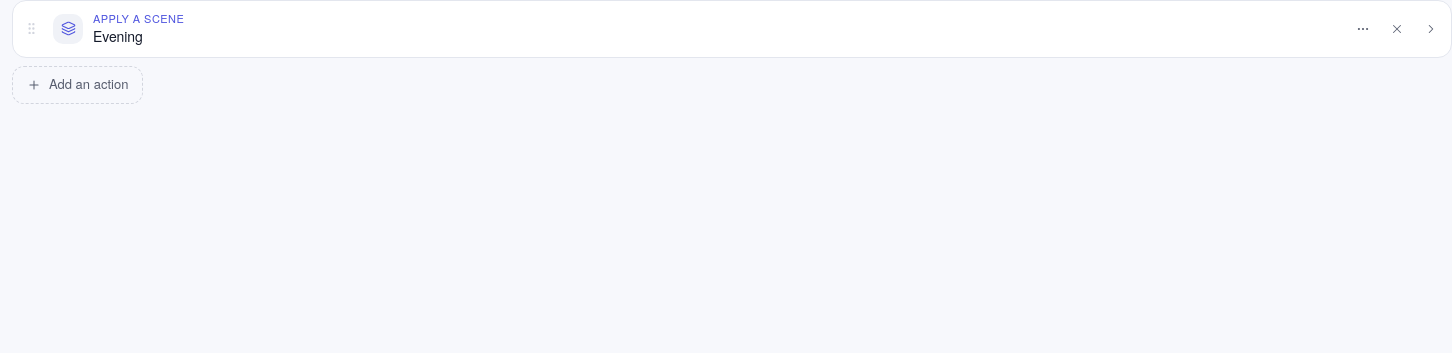
Test case: the ⋯ menu › renames a block, which then reads as its name
Click the button named "More for Apply a scene".
click(1363, 29)  # box [1351,17,1375,41]
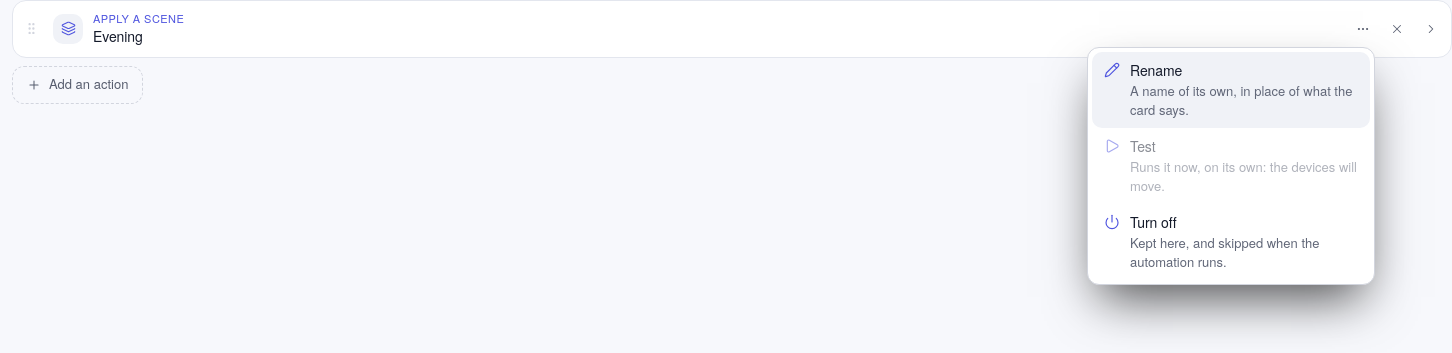
Click the menu item "Rename A name of its own, in place of what the card says.".
click(1231, 90)  # box [1092,52,1370,128]
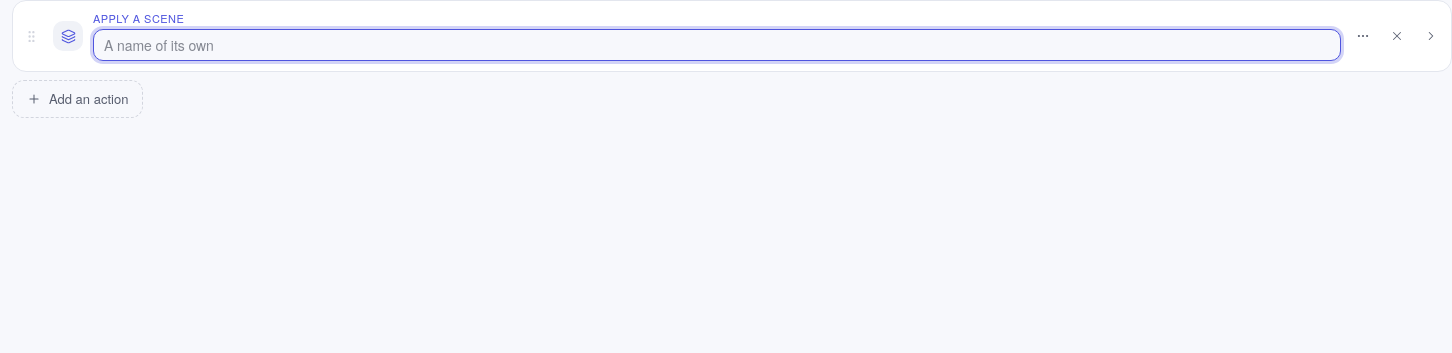
Type "Lights down" into the field labelled "A name of its own".
click(717, 45); type("Lights down")  # box [93,29,1341,61]
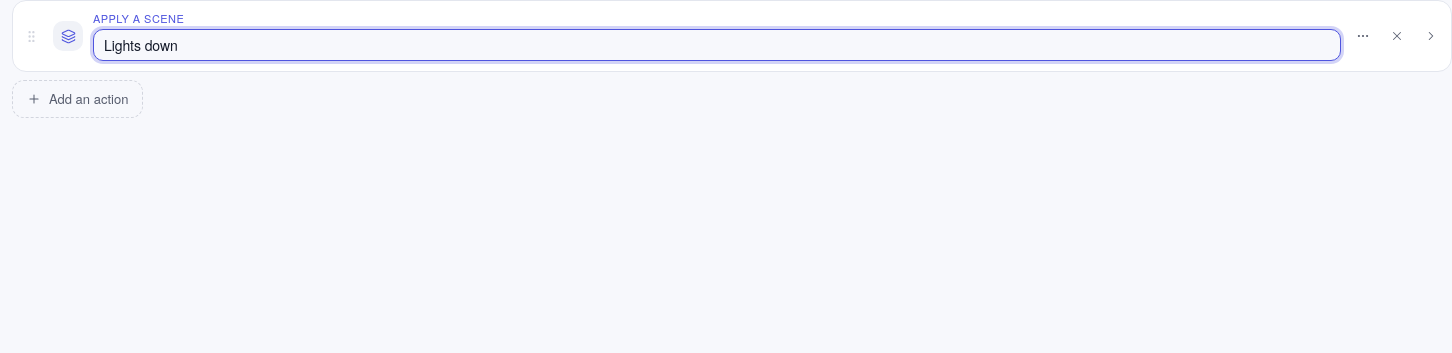
Press Enter in the field named "name", box [93,29,1341,61]
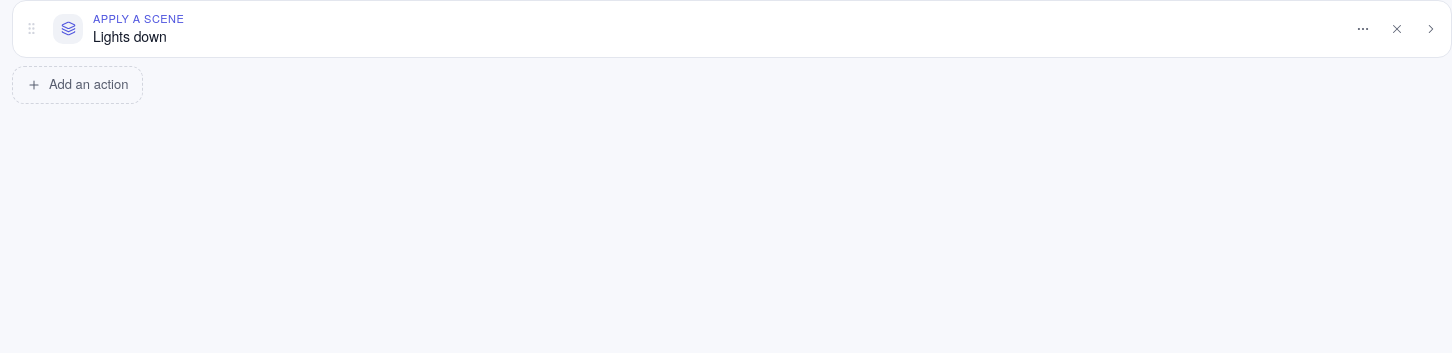
Check: the text "Lights down" is shown, box [93,26,167,46]
